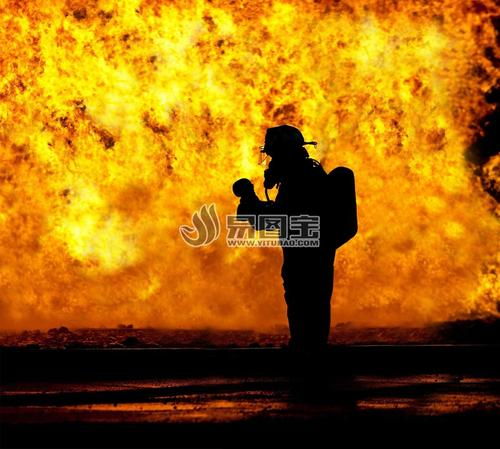fire: (3, 9, 491, 121), (2, 155, 157, 285), (385, 153, 500, 306)
